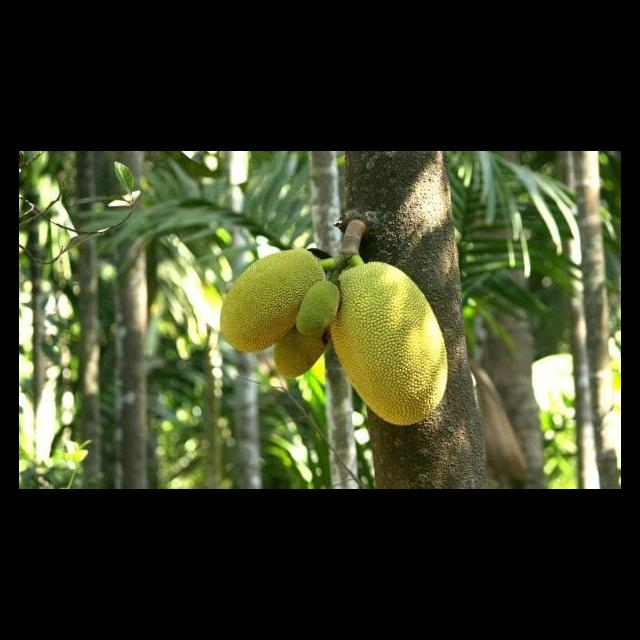mit: (329, 257, 451, 431), (220, 247, 328, 354), (297, 280, 341, 340)
